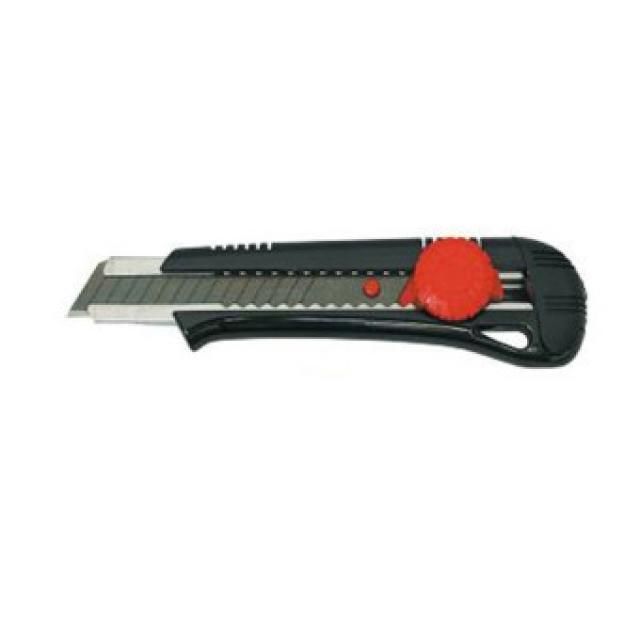cutter: (64, 222, 584, 380)
